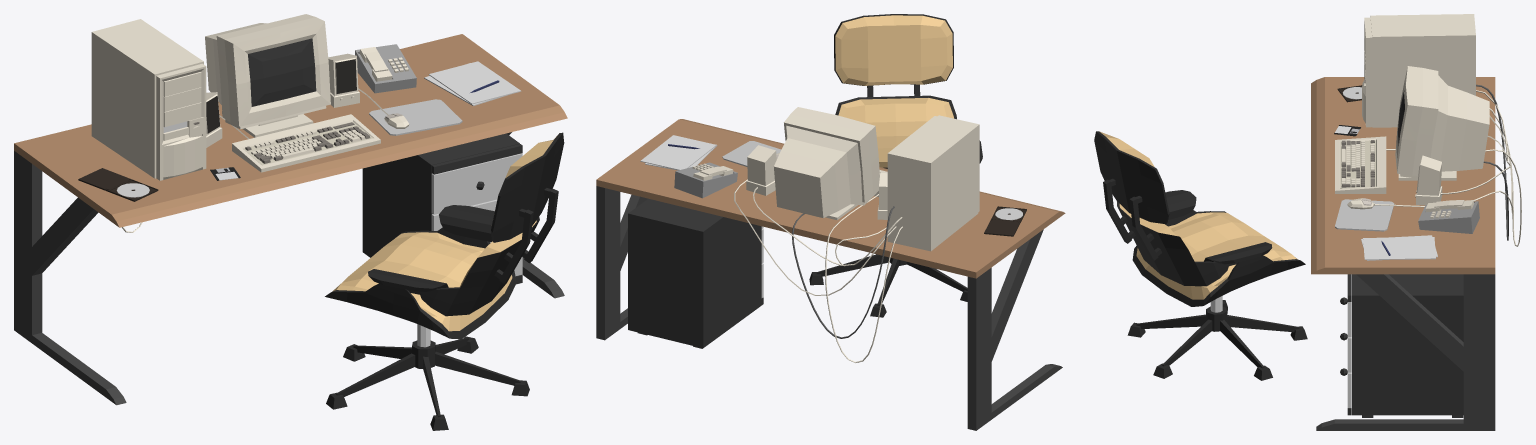
File: computer-draco.glb
3 renders of one model, left to right at view 1: azimuth 30°, elevation 25°; view 2: azimuth 150°, elevation 25°; view 3: azimuth 270°, elevation 25°, orthographic. The views are drawn at different scales.
Bounding box in the file's own units: 188 × 116 × 178.
2 materials, 2 textured.
